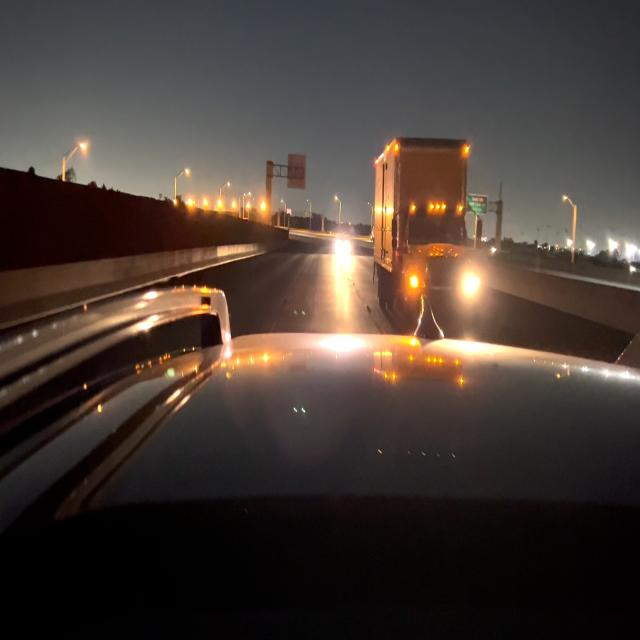back-of-sign: (289, 152, 305, 190)
